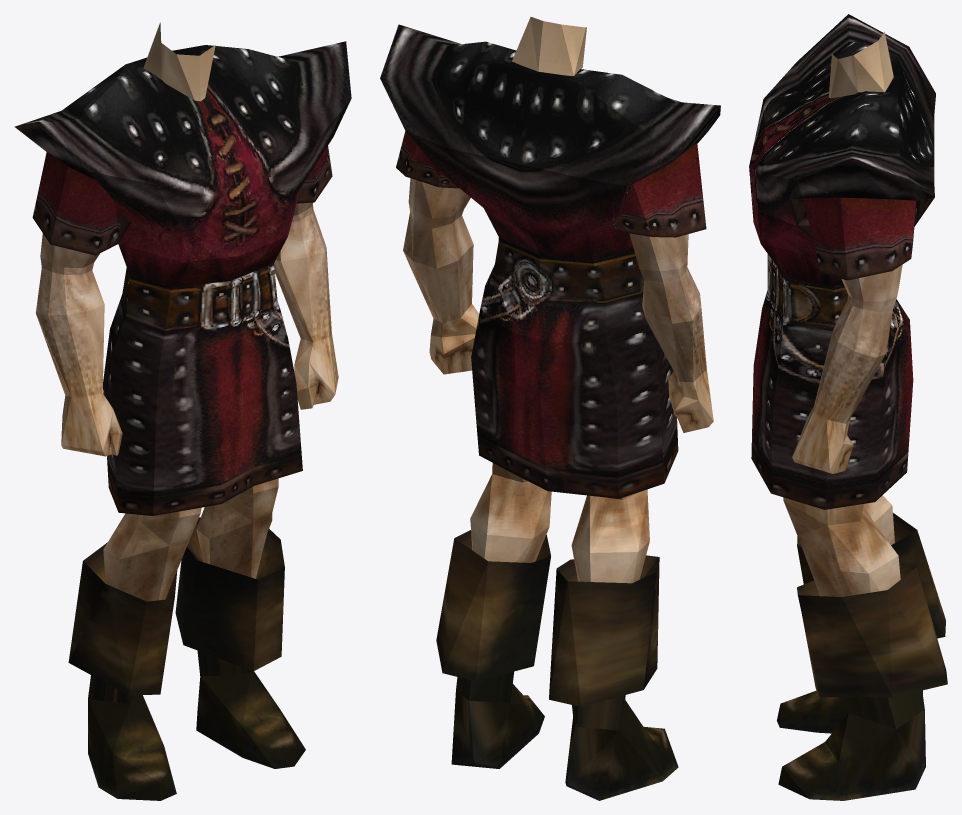
Rendered from GRD_ARMOR_L-DBYjoUoo.glb.
3 renders of one model, left to right at view 1: azimuth 30°, elevation 25°; view 2: azimuth 150°, elevation 25°; view 3: azimuth 270°, elevation 25°, orthographic. The views are drawn at different scales.
Visible parts, largest first — view 1: zm_Skin, zm_Skin1; view 2: zm_Skin, zm_Skin1; view 3: zm_Skin, zm_Skin1.
Part boxes in pixels (box(x1,y1,x2,y2)): zm_Skin: box(14, 41, 351, 800); zm_Skin1: box(36, 22, 338, 601); zm_Skin: box(380, 24, 720, 800); zm_Skin1: box(403, 17, 713, 583); zm_Skin: box(749, 14, 947, 800); zm_Skin1: box(783, 32, 902, 596).
Size of the model in its own units: 0.7555 by 1.7 by 0.4216.
3 materials, 3 textured.
